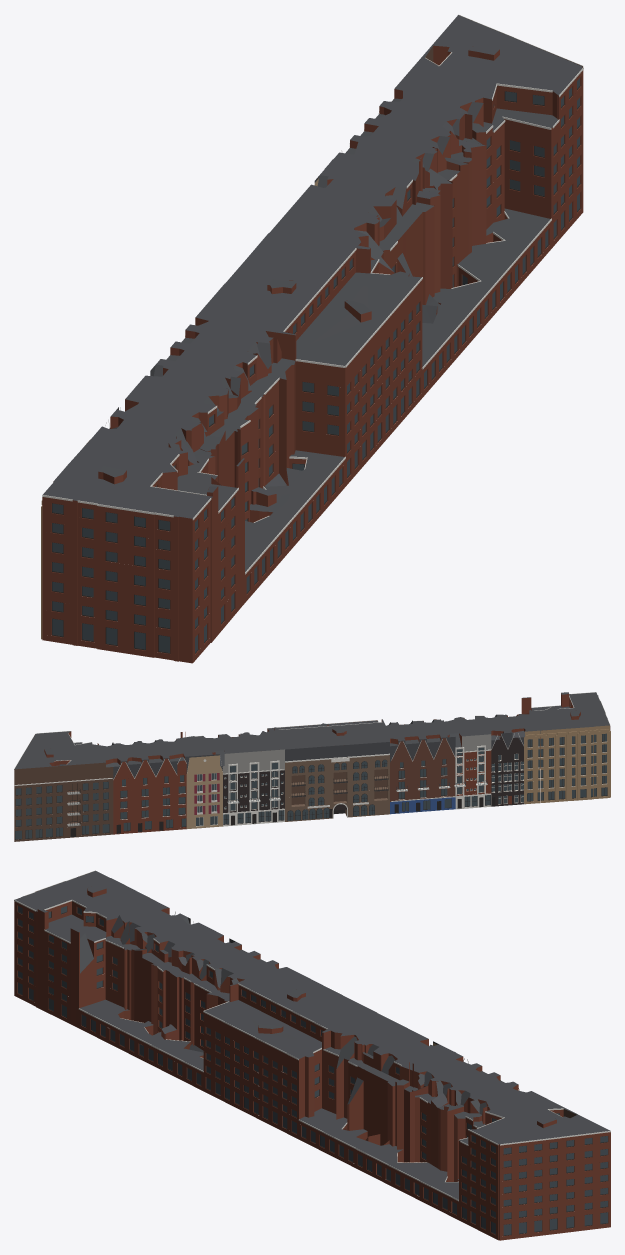
File: wiborgeiland-76.glb
3 renders of one model, top to bottom at view 1: azimuth 30°, elevation 25°; view 2: azimuth 150°, elevation 25°; view 3: azimuth 270°, elevation 25°, orthographic. The views are drawn at different scales.
Parts seen in each view (by area): view 1: wiborgeiland-76; view 2: wiborgeiland-76; view 3: wiborgeiland-76.
Part boxes in pixels (x1=…): wiborgeiland-76: x1=41, y1=14, x2=583, y2=663; wiborgeiland-76: x1=14, y1=692, x2=610, y2=841; wiborgeiland-76: x1=14, y1=870, x2=610, y2=1240.
Bounding box in the file's own units: 122 × 21.55 × 113.
